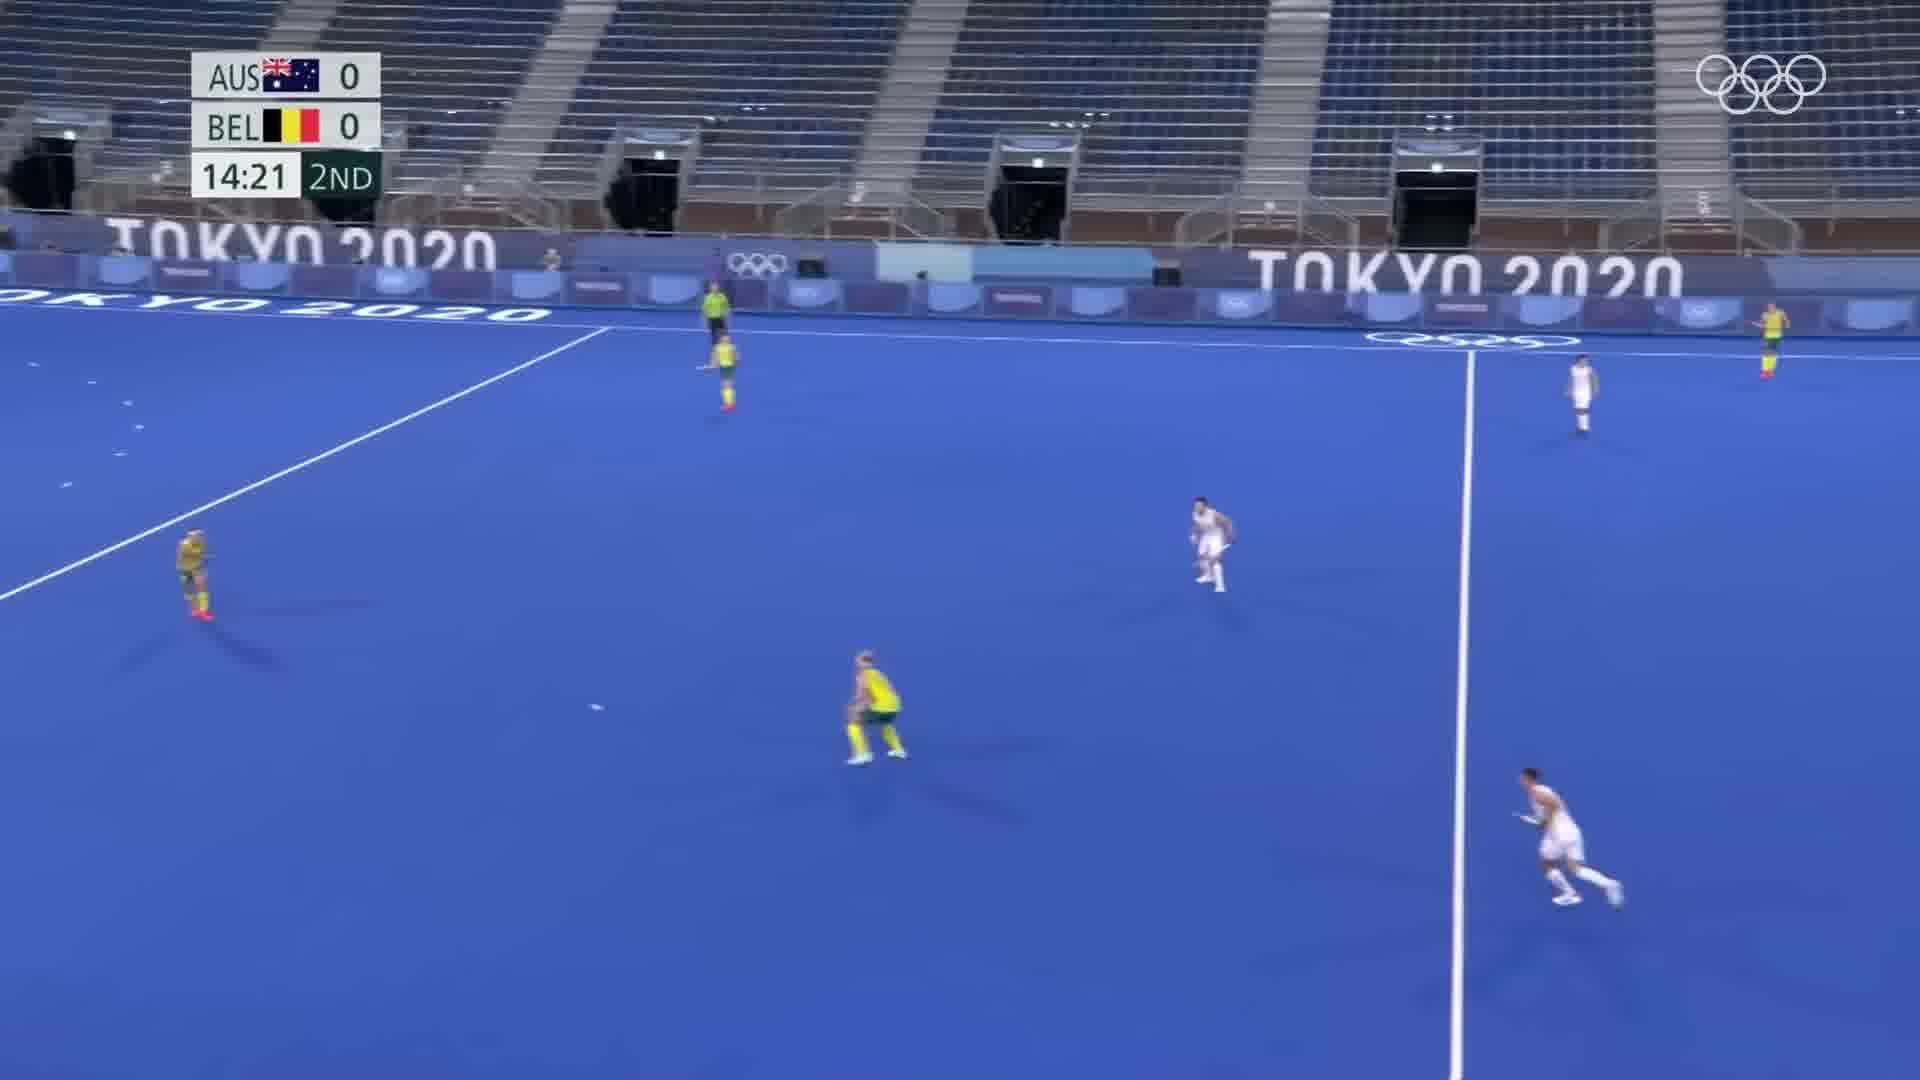ball: (582, 694, 618, 723)
